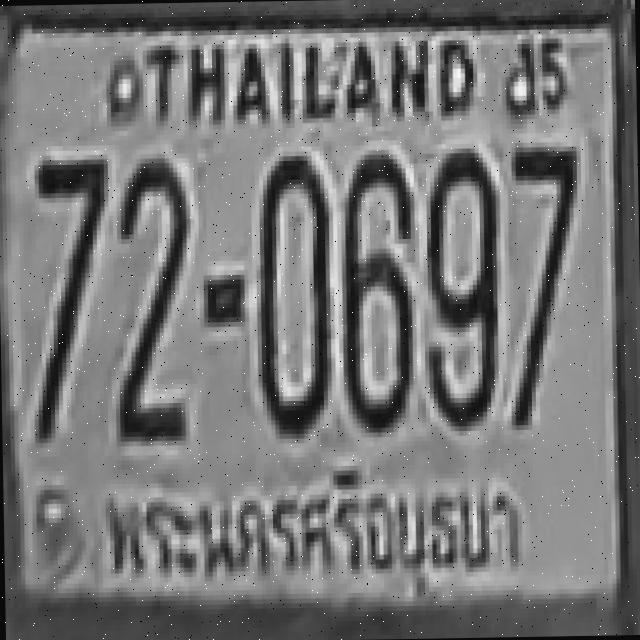0: (254, 153, 332, 432), (420, 145, 498, 330)
2: (112, 226, 186, 439)
7: (34, 157, 106, 332), (508, 142, 576, 302)
9: (421, 157, 499, 426), (420, 185, 498, 426)
Ayutthaya: (85, 456, 543, 598)
